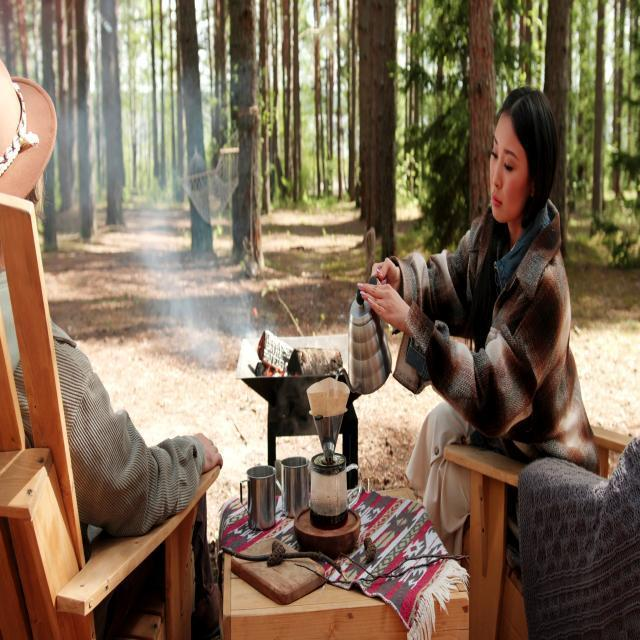Smoke: (64, 24, 266, 374)
